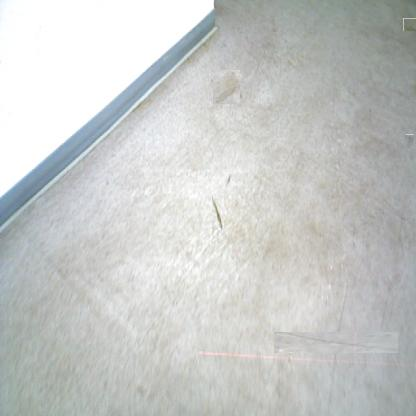liquid: (300, 306, 373, 378), (403, 18, 416, 31)
mark: (210, 71, 242, 103), (212, 194, 224, 230), (224, 173, 232, 188), (406, 134, 414, 149)
